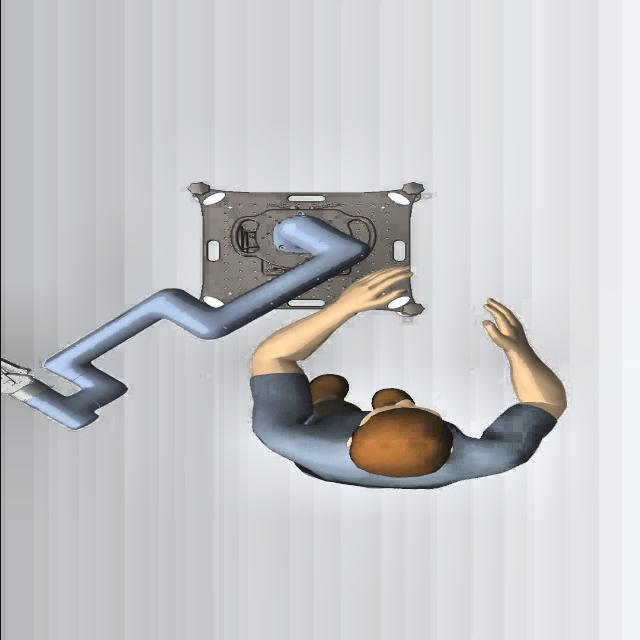human: (246, 264, 566, 490)
robot: (0, 208, 363, 430)
